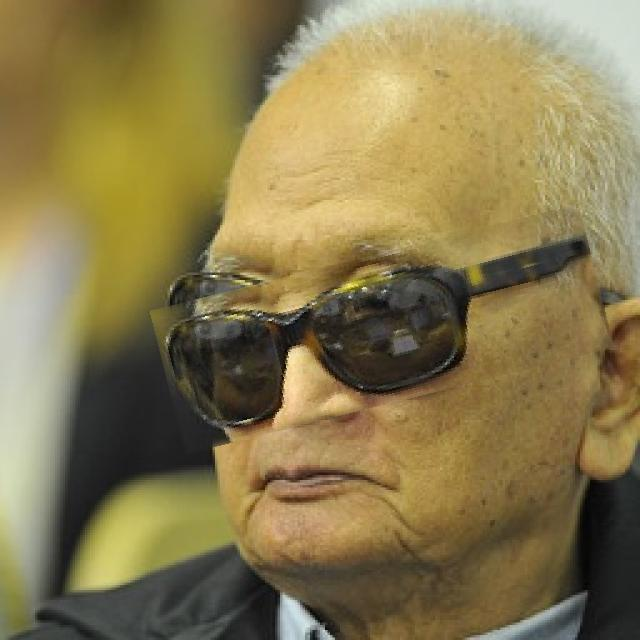glasses: (156, 230, 608, 429)
